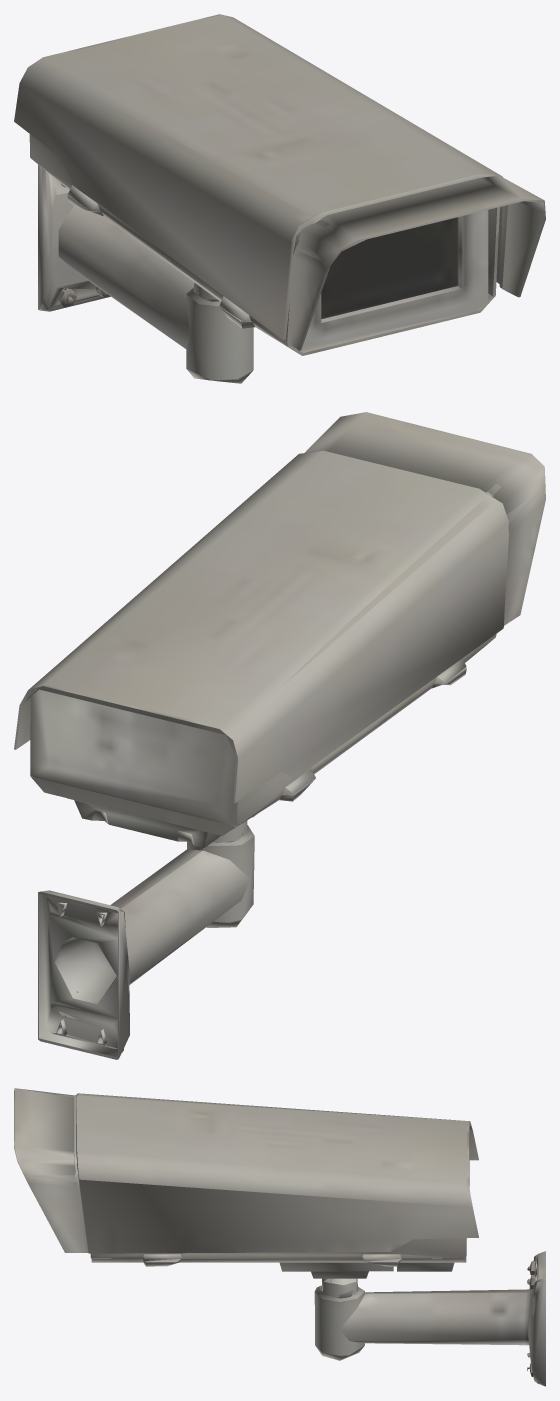
The model's file is security_camera_02_lod2.glb.
The picture shows the model from 3 angles, top to bottom: view 1: azimuth 30°, elevation 25°; view 2: azimuth 150°, elevation 25°; view 3: azimuth 270°, elevation 25°; orthographic projection. The views are drawn at different scales.
Parts seen in each view (by area): view 1: security_camera_02_mount, security_camera_02; view 2: security_camera_02_mount; view 3: security_camera_02_mount.
Boxes of the visible parts, left/top/right/bottom form: security_camera_02_mount: left=14, top=14, right=545, bottom=383; security_camera_02: left=321, top=217, right=458, bottom=318; security_camera_02_mount: left=14, top=412, right=545, bottom=1059; security_camera_02_mount: left=14, top=1088, right=545, bottom=1386.
Bounding box in the file's own units: 0.1406 × 0.208 × 0.3934.
2 materials, 2 textured.
